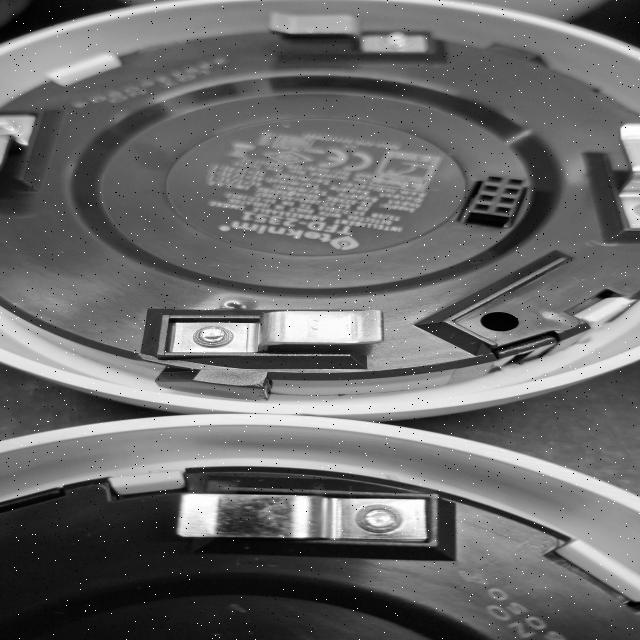yaysiz: (114, 478, 456, 554), (142, 293, 407, 368), (231, 4, 449, 65)
